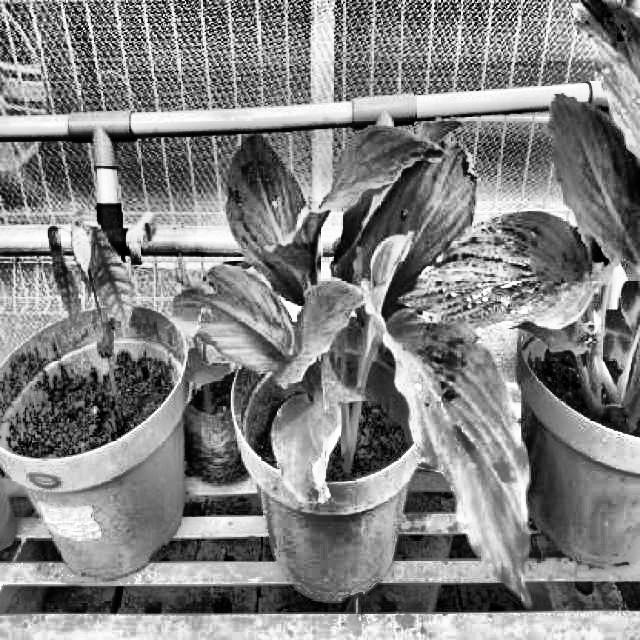plants: (178, 124, 532, 608), (482, 0, 638, 414)
